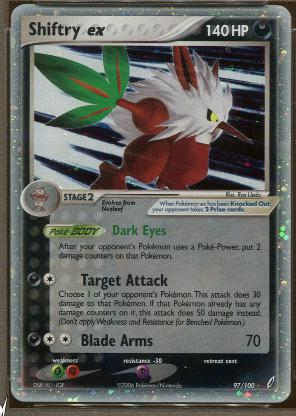Card: (9, 3, 291, 405)
